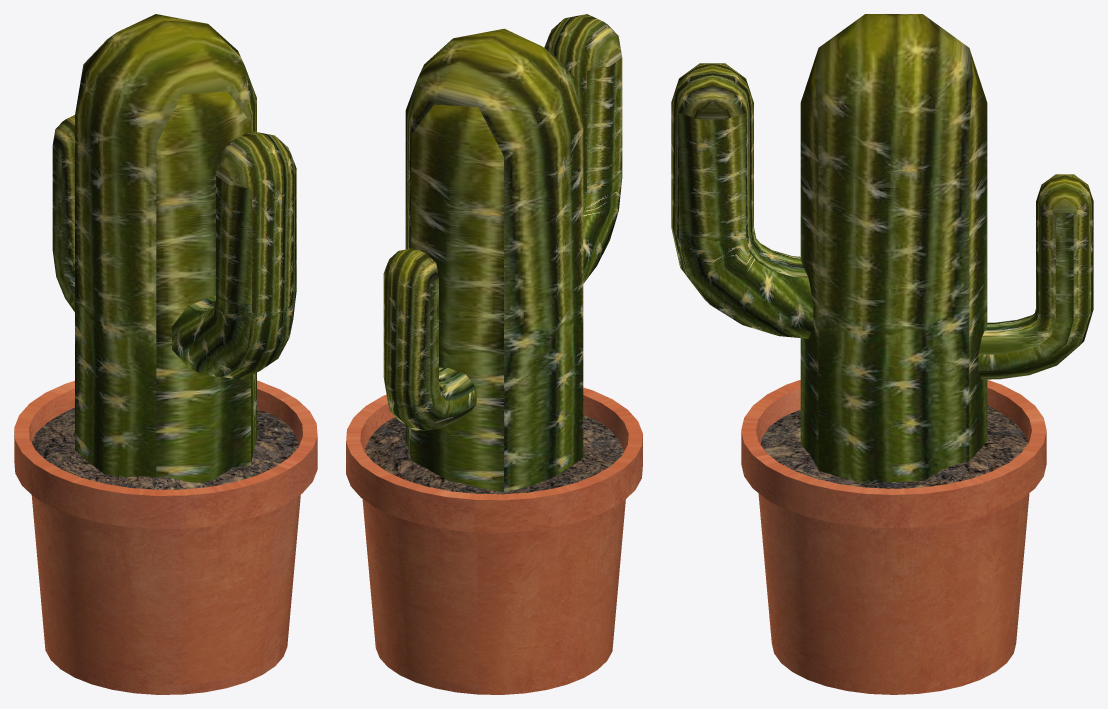
The model's file is cactus.fbx.
3 views of the same model, side by side, from view 1: azimuth 30°, elevation 25°; view 2: azimuth 150°, elevation 25°; view 3: azimuth 270°, elevation 25° (orthographic). The views are drawn at different scales.
Parts seen in each view (by area): view 1: Icosphere, Cylinder, Icosphere.001, Empty.003, Icosphere.002; view 2: Icosphere, Cylinder, Icosphere.002, Icosphere.001, Empty.003; view 3: Icosphere, Cylinder, Icosphere.001, Icosphere.002, Empty.003.
Part boxes in pixels (x1,y1,x2,y2): Icosphere: (75,14,256,482); Cylinder: (14,380,317,694); Icosphere.001: (172,131,296,379); Empty.003: (32,407,298,489); Icosphere.002: (52,115,74,311); Icosphere: (405,28,583,491); Cylinder: (346,387,642,694); Icosphere.002: (383,248,476,430); Icosphere.001: (544,14,622,283); Empty.003: (364,415,623,494); Icosphere: (800,14,987,483); Cylinder: (741,380,1046,694); Icosphere.001: (671,63,813,338); Icosphere.002: (978,174,1093,379); Empty.003: (760,405,1027,488).
Size of the model in its own units: 221 by 499 by 306.
4 materials, 4 textured.
